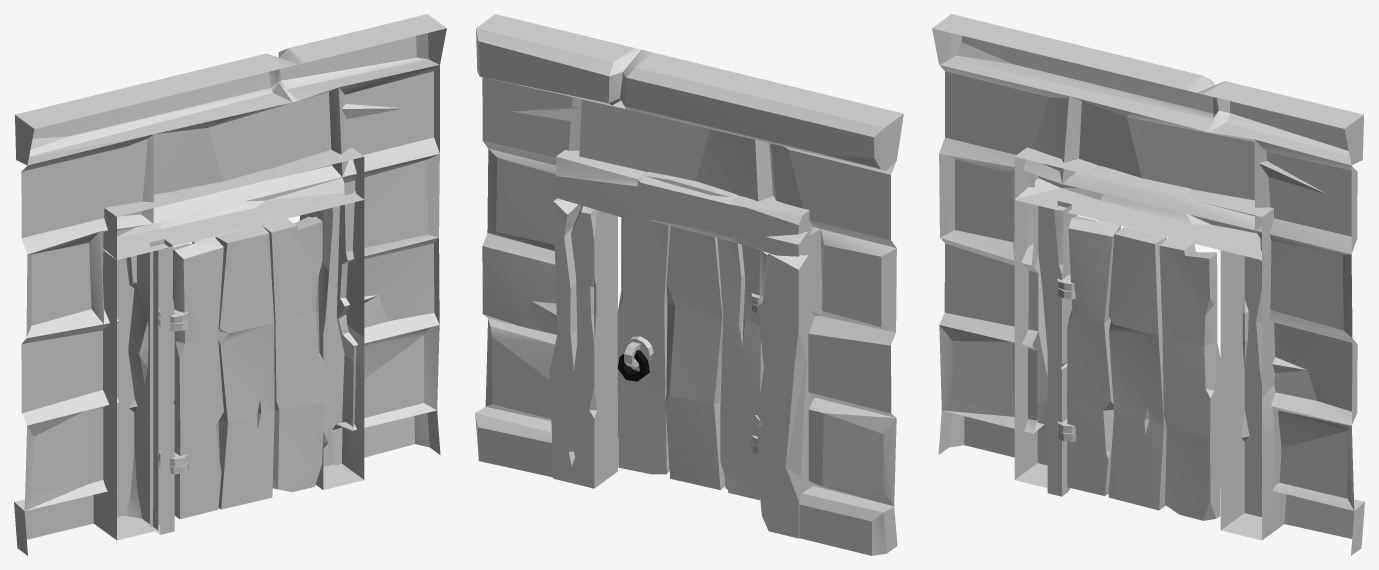
Rendered from NGF_Env_Wooden_doorway_on_the_foundation_04.fbx.
3 renders of one model, left to right at view 1: azimuth 30°, elevation 25°; view 2: azimuth 150°, elevation 25°; view 3: azimuth 330°, elevation 25°, orthographic.
Visible parts, largest first — view 1: NGF_Env_Wooden_doorway_on_the_foundation_04, NGF_Env_Door_05, NGF_Env_Door_attachment_02; view 2: NGF_Env_Wooden_doorway_on_the_foundation_04, NGF_Env_Door_05, NGF_Env_Handle_attachment_05, NGF_Env_Handle_05; view 3: NGF_Env_Wooden_doorway_on_the_foundation_04, NGF_Env_Door_05, NGF_Env_Door_attachment_02.
Boxes of the visible parts, <box> form: NGF_Env_Wooden_doorway_on_the_foundation_04: <box>14,14,446,555</box>; NGF_Env_Door_05: <box>173,216,324,519</box>; NGF_Env_Door_attachment_02: <box>150,239,174,534</box>; NGF_Env_Wooden_doorway_on_the_foundation_04: <box>475,14,903,555</box>; NGF_Env_Door_05: <box>617,217,763,500</box>; NGF_Env_Handle_attachment_05: <box>623,336,653,367</box>; NGF_Env_Handle_05: <box>617,350,649,381</box>; NGF_Env_Wooden_doorway_on_the_foundation_04: <box>932,14,1364,555</box>; NGF_Env_Door_05: <box>1067,216,1220,520</box>; NGF_Env_Door_attachment_02: <box>1047,201,1071,496</box>.
Bounding box in the file's own units: 4 × 4 × 0.583.
1 material, 1 textured.
